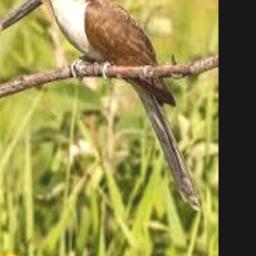Cuckoo: (11, 0, 202, 209)
